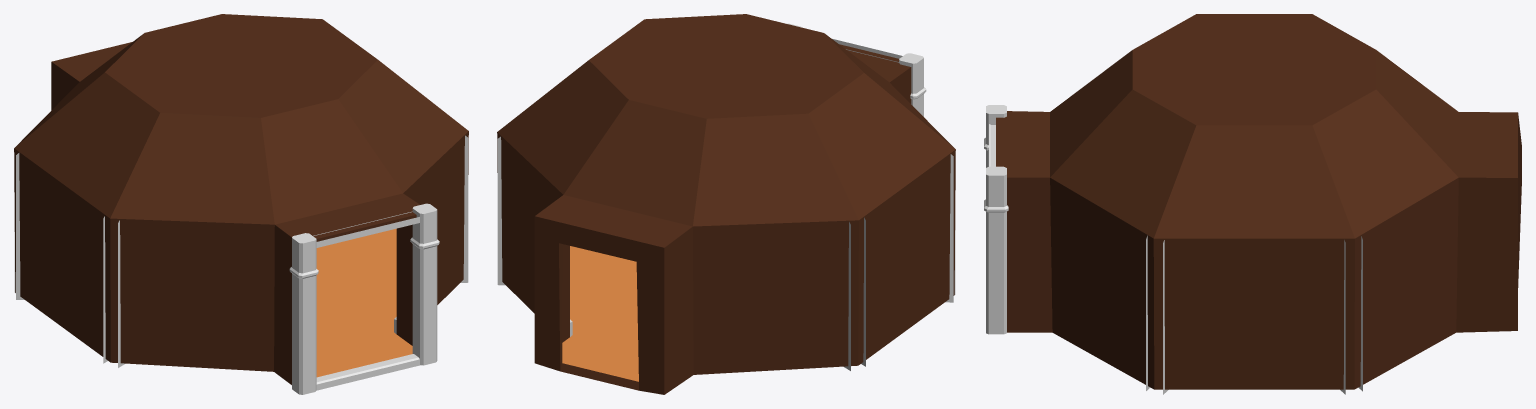
Rendered from FRoom.fbx.
The picture shows the model from 3 angles, left to right: view 1: azimuth 30°, elevation 25°; view 2: azimuth 150°, elevation 25°; view 3: azimuth 270°, elevation 25°; orthographic projection. The views are drawn at different scales.
Parts seen in each view (by area): view 1: GrammophoneRoomU, Uebergang, CircularPillars; view 2: GrammophoneRoomU, CircularPillars, Uebergang; view 3: GrammophoneRoomU, Uebergang, CircularPillars.
Boxes of the visible parts, x1,y1,x2,y2 form: GrammophoneRoomU: (14,14,468,384); Uebergang: (289,203,439,394); CircularPillars: (14,135,468,367); GrammophoneRoomU: (497,14,955,394); CircularPillars: (497,136,955,370); Uebergang: (786,23,926,116); GrammophoneRoomU: (996,14,1521,389); Uebergang: (984,105,1008,334); CircularPillars: (1146,235,1362,394).
Size of the model in its own units: 660 by 384 by 806.
